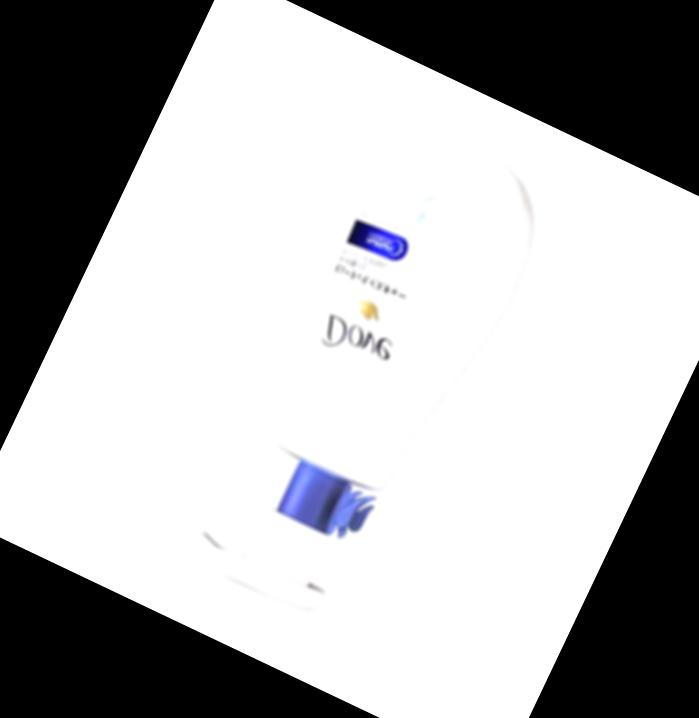cosmetic: (171, 100, 570, 642)
